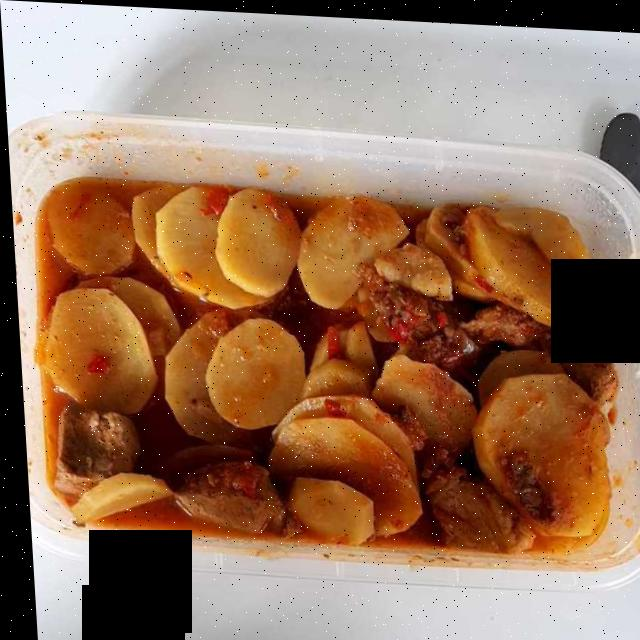pork-roast: (41, 187, 607, 542)
potatoes-steamed: (38, 186, 606, 535)
sauce-roast: (33, 183, 614, 560)
